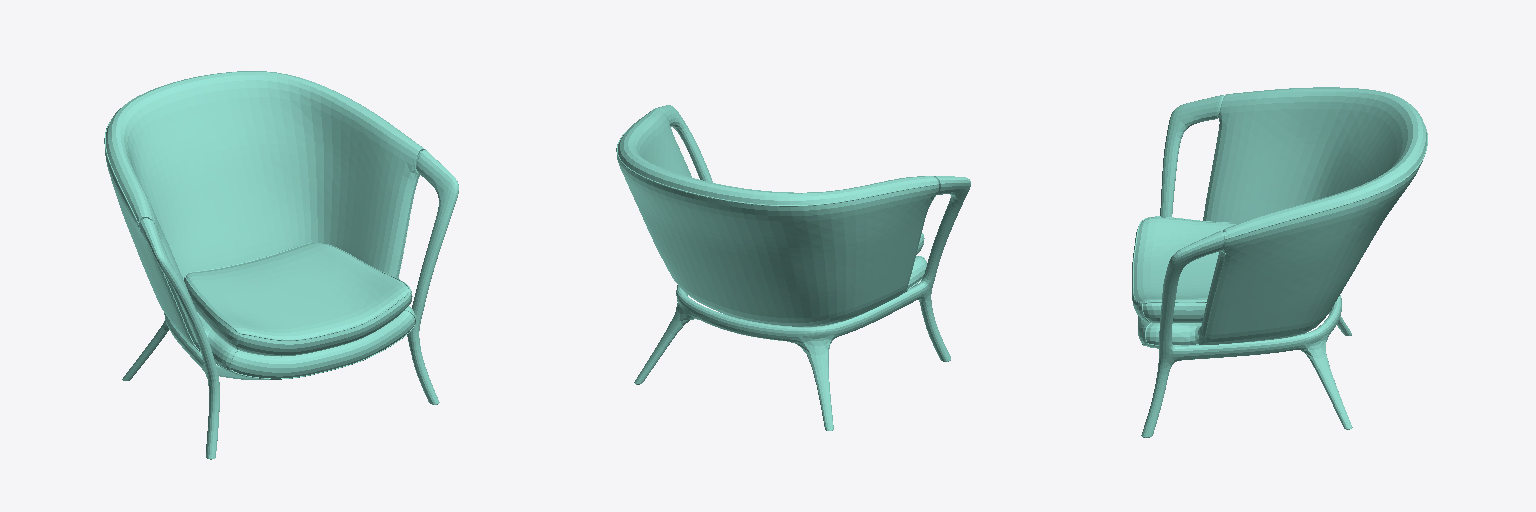
File: casa_armchair.obj
3 renders of one model, left to right at view 1: azimuth 30°, elevation 25°; view 2: azimuth 150°, elevation 25°; view 3: azimuth 270°, elevation 25°, orthographic.
Parts seen in each view (by area): view 1: seat001, wood_frame001; view 2: seat001, wood_frame001; view 3: seat001, wood_frame001.
Part boxes in pixels (bbox=[...]): seat001: bbox=[104, 71, 425, 379]; wood_frame001: bbox=[122, 150, 458, 459]; seat001: bbox=[616, 109, 939, 326]; wood_frame001: bbox=[634, 105, 970, 430]; seat001: bbox=[1132, 87, 1427, 348]; wood_frame001: bbox=[1141, 95, 1352, 437].
Size of the model in its own units: 613 by 487 by 520.